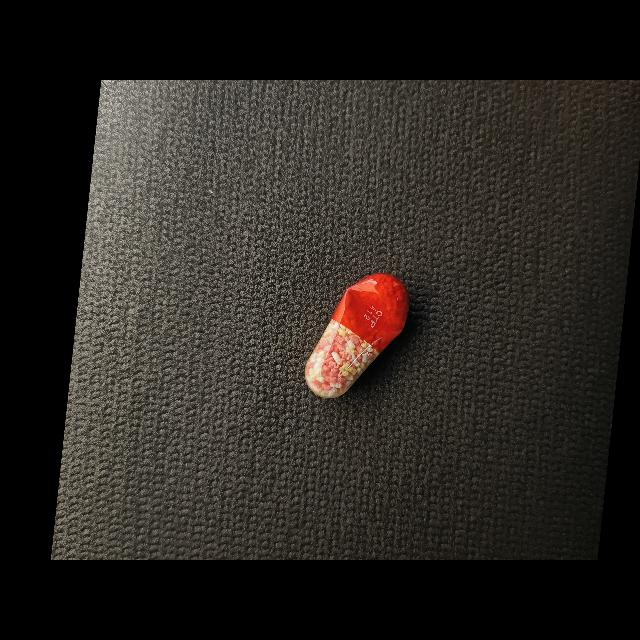Defective Capsule: (305, 274, 409, 398)
